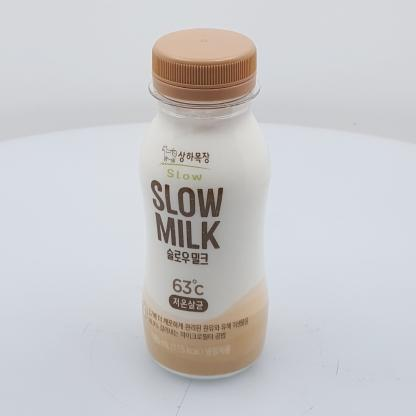----------180ML: (137, 28, 272, 380)
